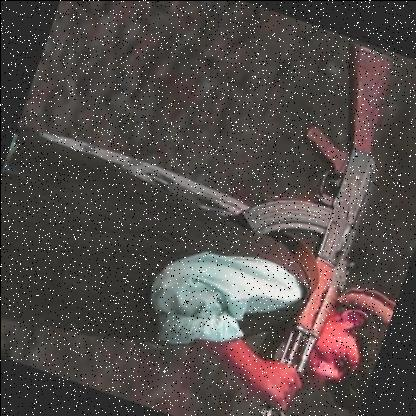rifle: (181, 28, 416, 416)
